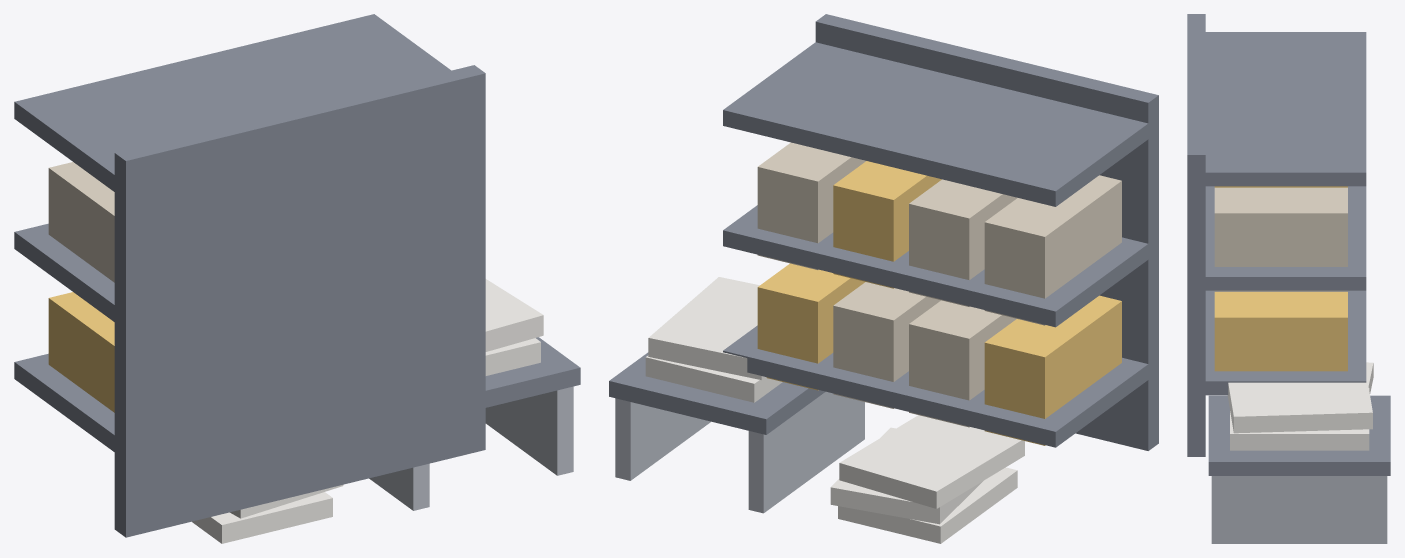
File: station_buffer_3.glb
3 renders of one model, left to right at view 1: azimuth 30°, elevation 25°; view 2: azimuth 150°, elevation 25°; view 3: azimuth 270°, elevation 25°, orthographic. The views are drawn at different scales.
Parts seen in each view (by area): view 1: regal_rueck, regal_boden.002, ordner_0_0, ordner_1_0, ablage_wange.001, regal_boden.001, regal_boden, ablage_boden, stapel_0, ablage_papier_1, ablage_wange, ablage_papier_0; view 2: regal_boden.002, regal_rueck, regal_boden.001, regal_boden, ordner_1_0, ordner_0_0, stapel_2, ablage_wange, ordner_1_3, ordner_1_2, ordner_1_1, ordner_0_3 (+8 smaller); view 3: regal_boden.002, ablage_wange.001, ordner_0_3, ordner_1_3, regal_rueck, ablage_boden, ablage_papier_1, regal_boden.001, regal_boden, ablage_papier_0, ordner_1_2, ordner_0_2.
Part boxes in pixels (x1,y1,x2,y2): regal_rueck: (114, 65, 485, 537); regal_boden.002: (14, 14, 451, 195); ordner_0_0: (48, 292, 114, 412); ordner_1_0: (48, 162, 114, 282); ablage_wange.001: (485, 386, 573, 475); regal_boden.001: (14, 223, 120, 325); regal_boden: (14, 353, 120, 455); ablage_boden: (485, 337, 580, 407); stapel_0: (192, 492, 332, 543); ablage_papier_1: (485, 279, 543, 351); ablage_wange: (369, 463, 429, 510); ablage_papier_0: (485, 338, 540, 375); regal_boden.002: (723, 42, 1153, 206); regal_rueck: (815, 14, 1158, 450); regal_boden.001: (723, 205, 1153, 327); regal_boden: (723, 325, 1153, 447); ordner_1_0: (984, 175, 1121, 325); ordner_0_0: (984, 295, 1121, 445); stapel_2: (839, 415, 1024, 508); ablage_wange: (748, 391, 864, 513); ordner_1_3: (757, 142, 865, 269); ordner_1_2: (833, 161, 941, 288); ordner_1_1: (909, 179, 1017, 306); ordner_0_3: (757, 263, 864, 390); regal_boden.002: (1196, 32, 1366, 186); ablage_wange.001: (1211, 476, 1387, 543); ordner_0_3: (1214, 292, 1347, 371); ordner_1_3: (1214, 187, 1347, 266); regal_rueck: (1187, 14, 1205, 456); ablage_boden: (1208, 395, 1390, 475); ablage_papier_1: (1227, 374, 1372, 433); regal_boden.001: (1196, 186, 1366, 290); regal_boden: (1196, 290, 1366, 395); ablage_papier_0: (1230, 388, 1369, 450); ordner_1_2: (1214, 186, 1347, 187); ordner_0_2: (1214, 290, 1347, 291).
Bounding box in the file's own units: 1.43 × 1.27 × 0.67.
